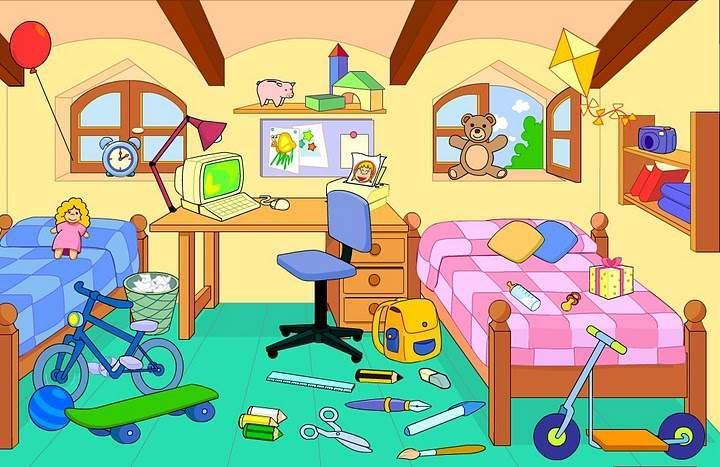bicycle: (28, 271, 190, 398)
bottle: (500, 276, 546, 320)
chair: (271, 191, 374, 354)
tvmonitor: (174, 152, 261, 216)
